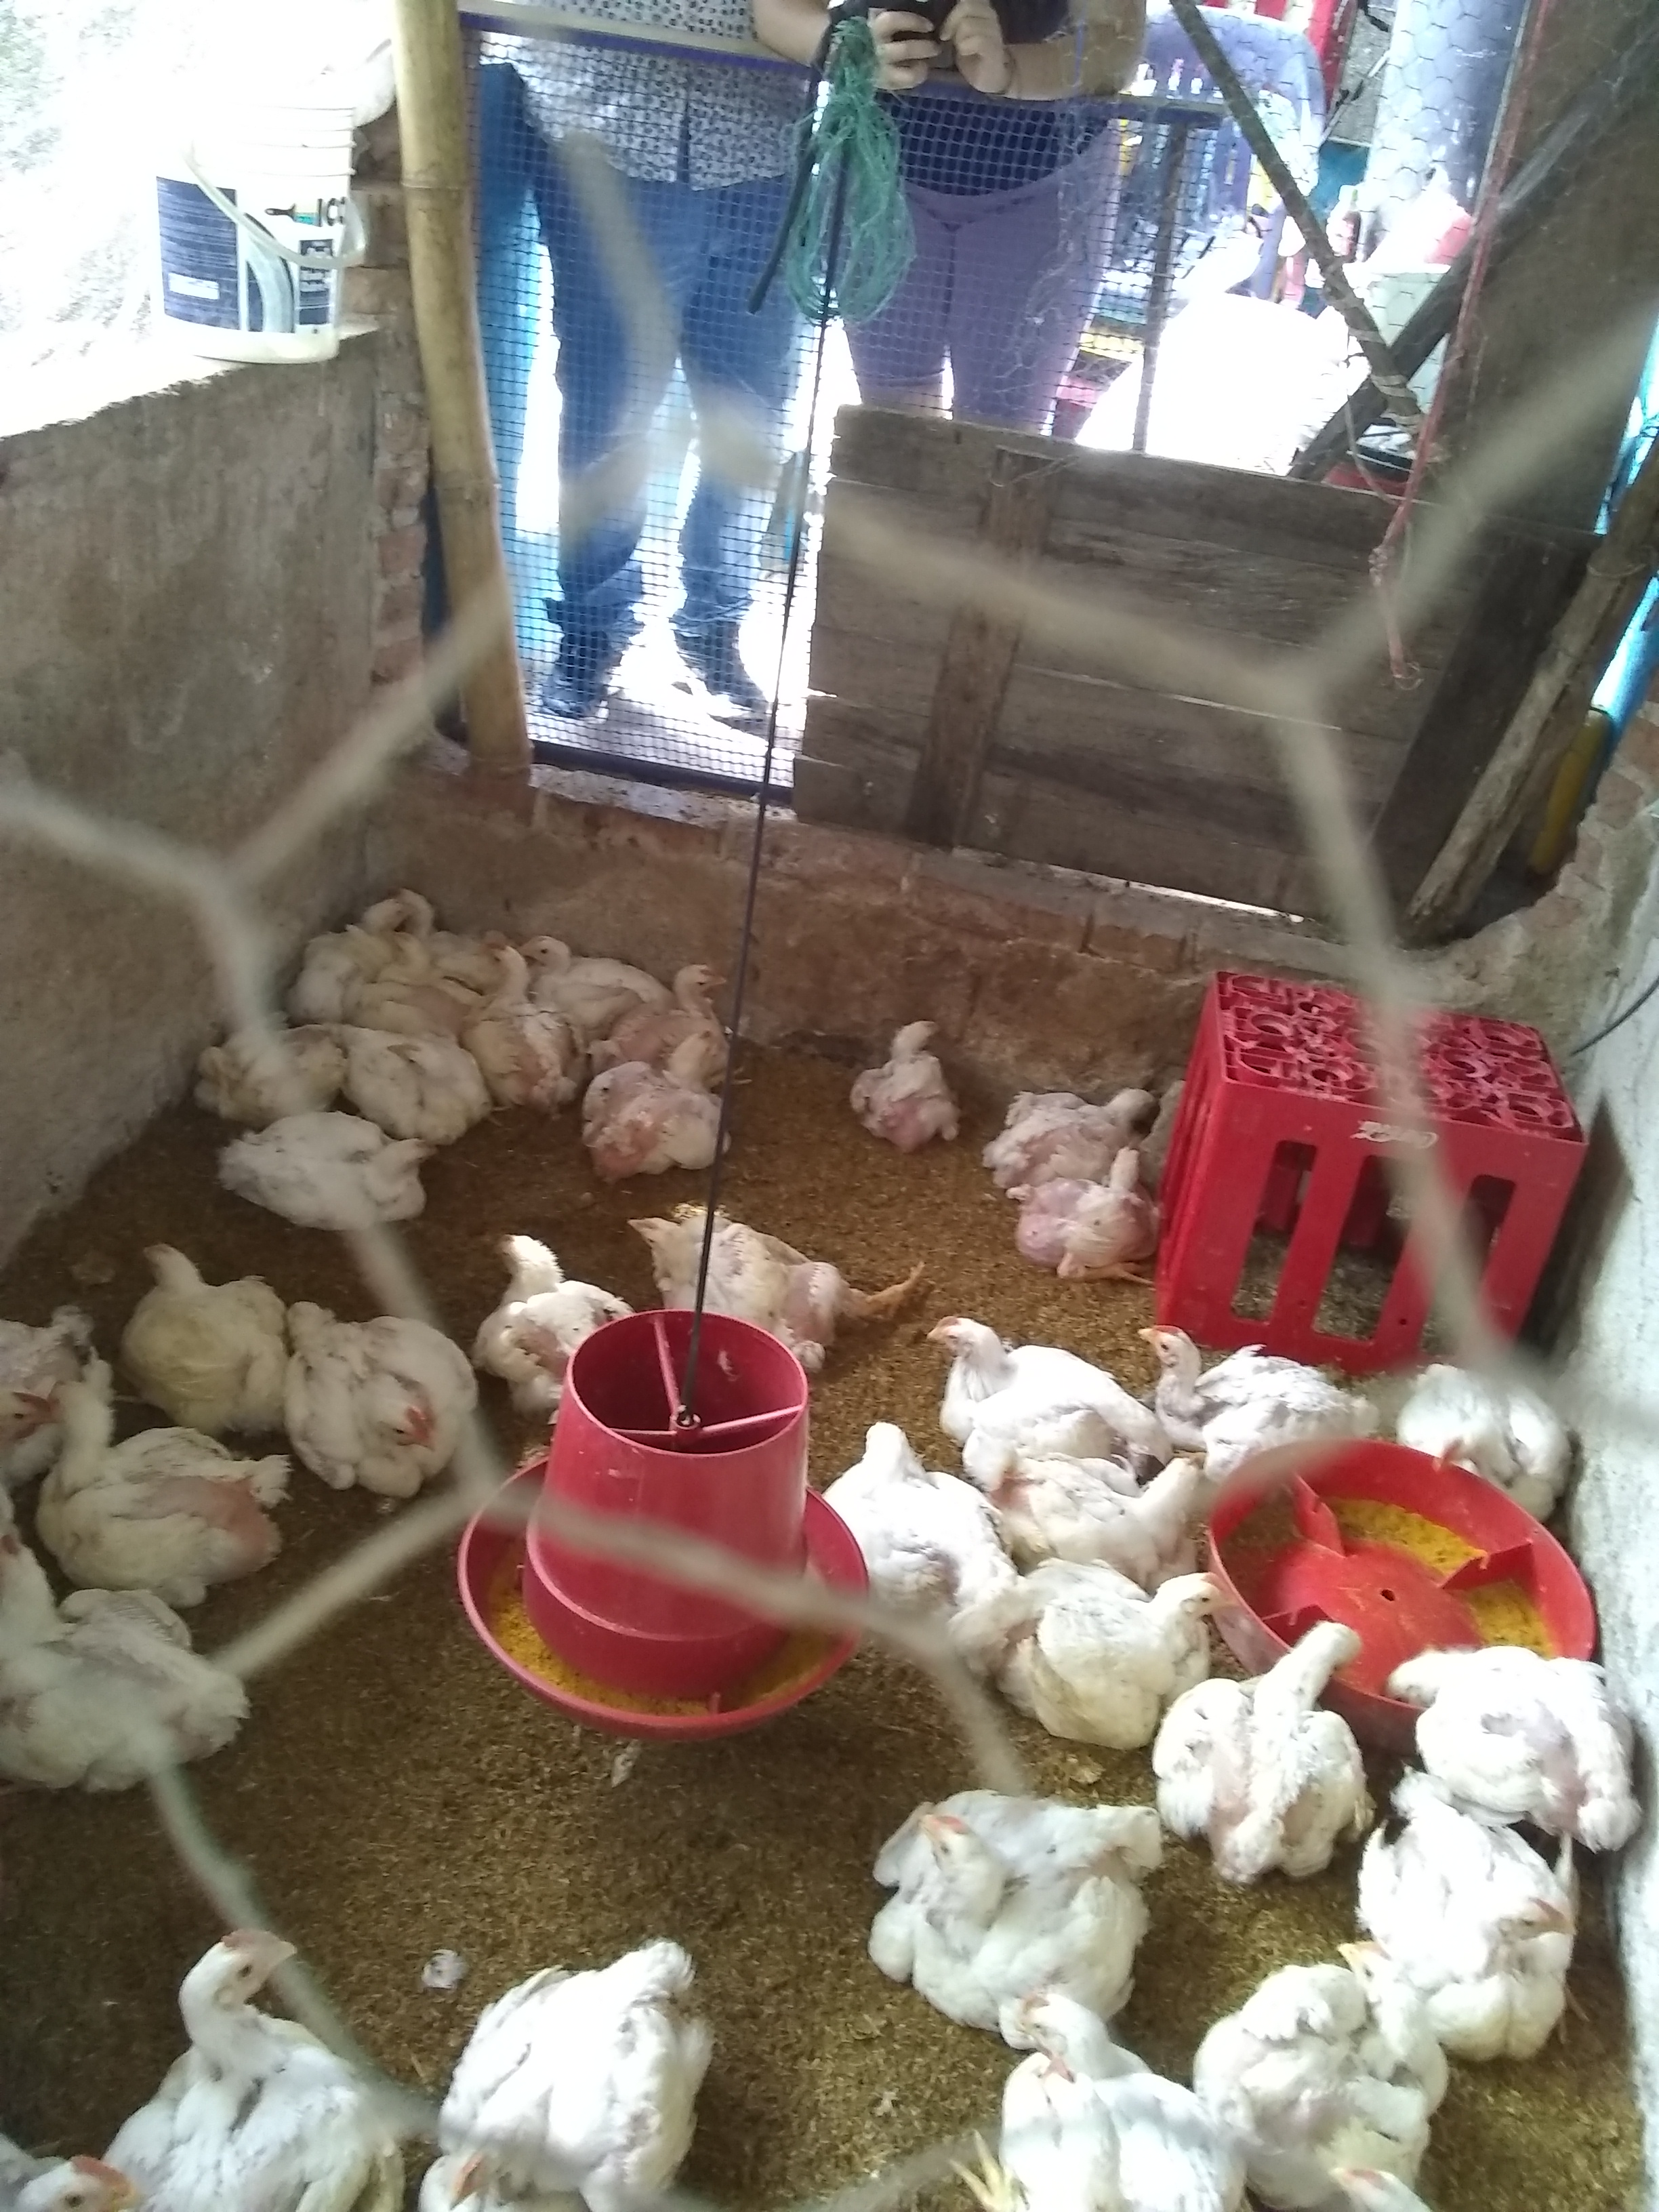Pollos: (416, 1907, 721, 2212), (115, 1916, 387, 2212), (856, 1778, 1150, 2033), (1204, 1914, 1445, 2212), (0, 1533, 249, 1792), (1366, 1771, 1572, 2069), (958, 1989, 1218, 2209), (1387, 1635, 1649, 1846), (1147, 1616, 1373, 1855), (49, 1381, 293, 1590), (627, 1198, 880, 1376), (985, 1561, 1230, 1742), (1138, 1299, 1384, 1465), (823, 1409, 990, 1639), (295, 1285, 477, 1486), (122, 1230, 298, 1423), (476, 1221, 634, 1406), (1425, 1341, 1575, 1533), (934, 1303, 1114, 1461), (1002, 1442, 1209, 1557), (228, 1113, 430, 1224), (1026, 1148, 1185, 1278), (591, 1029, 728, 1176), (985, 1054, 1154, 1165), (0, 1301, 98, 1475), (852, 1014, 965, 1155), (349, 1021, 484, 1137), (476, 939, 568, 1103), (202, 1010, 342, 1116), (518, 923, 640, 1033), (0, 2109, 125, 2212), (305, 899, 420, 982), (657, 956, 732, 1038), (406, 883, 481, 960)
